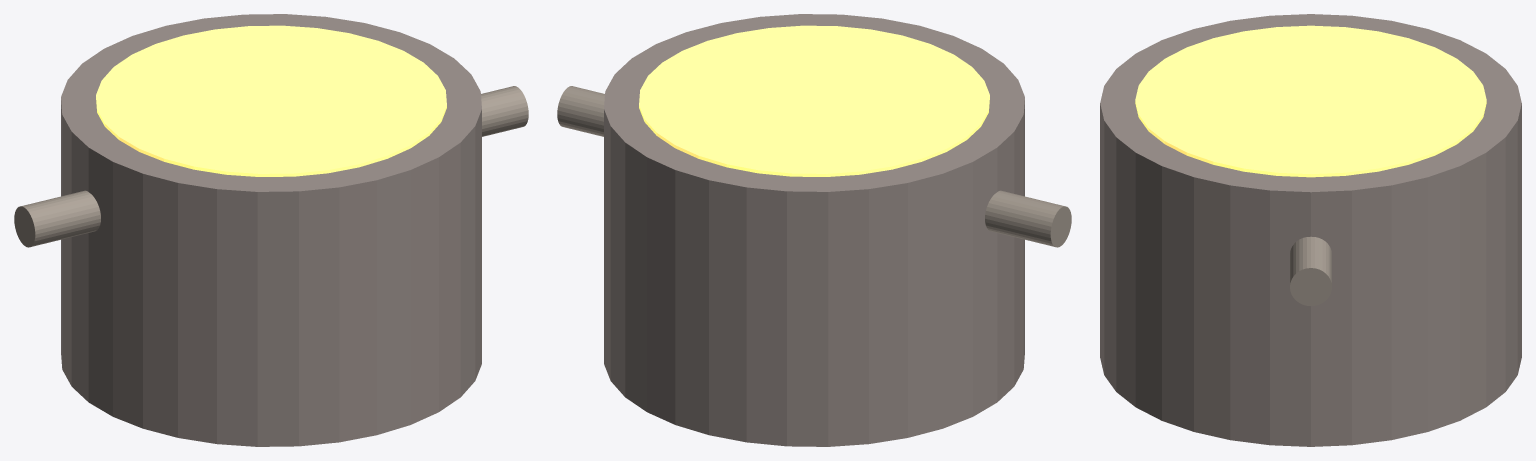
Rendered from slag_ladle.glb.
3 views of the same model, side by side, from view 1: azimuth 30°, elevation 25°; view 2: azimuth 150°, elevation 25°; view 3: azimuth 270°, elevation 25° (orthographic).
Parts seen in each view (by area): view 1: LadleShell, MoltenSlag, Cylinder, Cylinder.001; view 2: LadleShell, MoltenSlag, Cylinder, Cylinder.001; view 3: LadleShell, MoltenSlag, Cylinder.001.
Part boxes in pixels (x1,y1,x2,y2): LadleShell: (61, 14, 481, 446); MoltenSlag: (96, 25, 446, 176); Cylinder: (14, 190, 100, 247); Cylinder.001: (481, 86, 528, 136); LadleShell: (604, 14, 1024, 446); MoltenSlag: (639, 25, 989, 176); Cylinder: (985, 190, 1071, 247); Cylinder.001: (557, 86, 604, 136); LadleShell: (1100, 14, 1521, 446); MoltenSlag: (1135, 25, 1486, 177); Cylinder.001: (1290, 236, 1331, 305).
Bounding box in the file's own units: 8.1 × 4.05 × 6.
